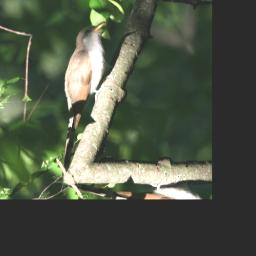Cuckoo: (3, 15, 163, 175)
